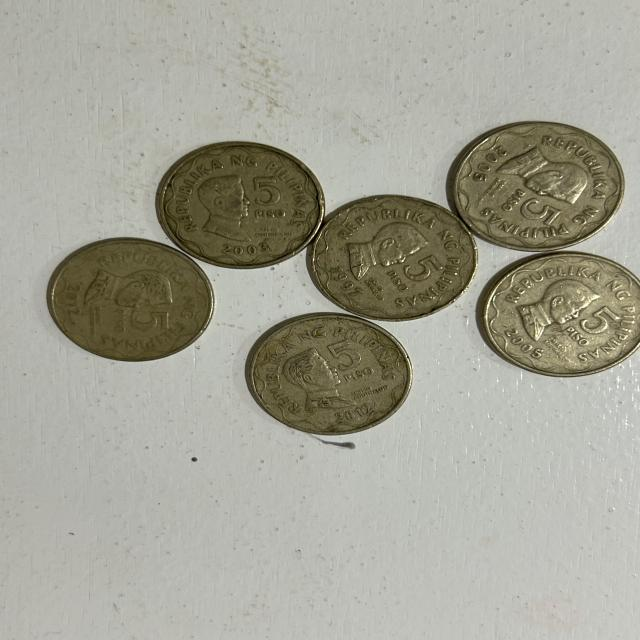5_Old_Front: (382, 243, 446, 298), (319, 335, 382, 387), (496, 186, 559, 238), (560, 306, 624, 357), (100, 302, 172, 336), (243, 172, 289, 224)
